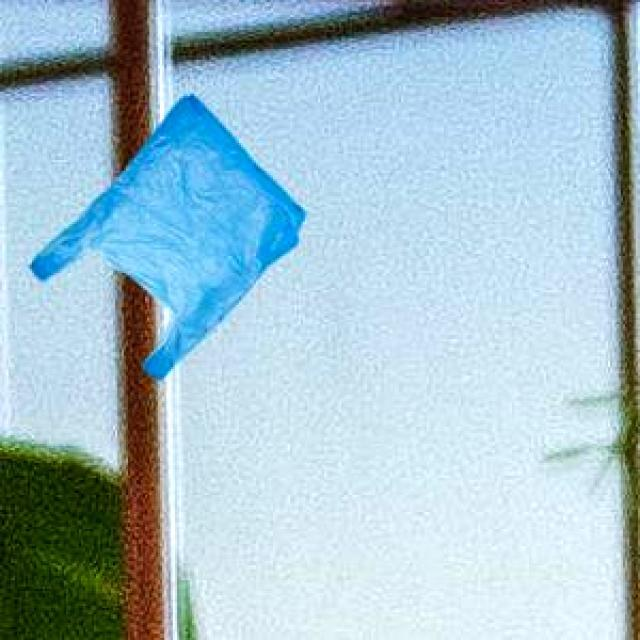Plastic_Bag: (27, 92, 302, 376)
